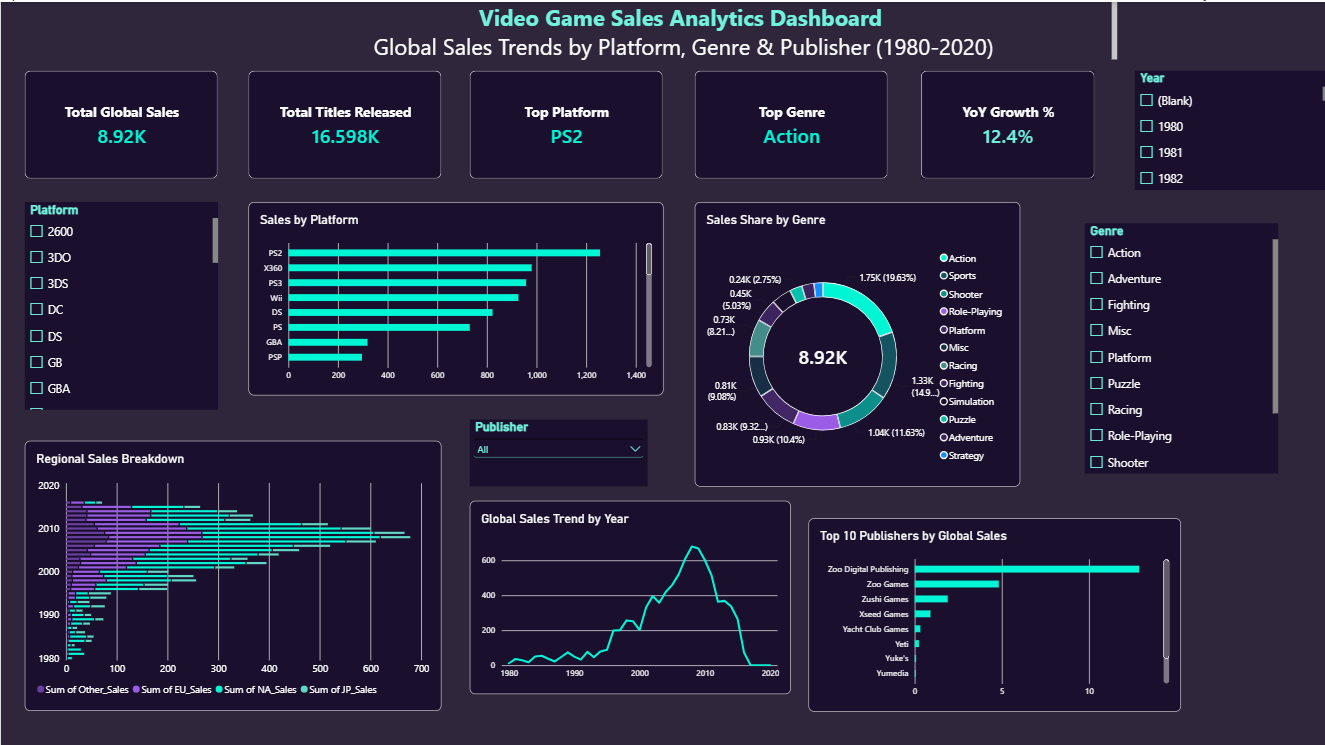

What the dashboard file says about the page in this screenshot:
{"tool":"powerbi","page":{"name":"Page 1","canvas":[1920,1080],"ordinal":0},"visuals":[{"type":"cardVisual","fields":{"Data":["Sum(vgsales.Global_Sales)"]},"box":[35,98.8,279.9,156.4],"z":0},{"type":"cardVisual","fields":{"Data":["vgsales.Top Platform"]},"box":[679.2,98.8,279.9,156.4],"z":1000},{"type":"cardVisual","fields":{"Data":["CountNonNull(vgsales.Name)"]},"box":[358.1,98.8,279.9,156.4],"z":2000},{"type":"cardVisual","fields":{"Data":["vgsales.Top Genre"]},"box":[1004.5,98.8,279.9,156.4],"z":4000},{"type":"lineChart","title":" Global Sales Trend by Year","fields":{"Category":["vgsales.Year"],"Y":["Sum(vgsales.Global_Sales)"]},"box":[679.2,722.5,465.2,279.9],"z":5000},{"type":"clusteredBarChart","title":"Sales by Platform","fields":{"Category":["vgsales.Platform"],"Y":["Sum(vgsales.Global_Sales)"]},"box":[358.1,290.2,601,279.9],"z":6000},{"type":"donutChart","title":"Sales Share by Genre","fields":{"Category":["vgsales.Genre"],"Y":["Sum(vgsales.Global_Sales)"]},"box":[1004.5,290.2,471.4,411.7],"z":7000},{"type":"barChart","title":"Top 10 Publishers by Global Sales","fields":{"Category":["vgsales.Publisher"],"Y":["Sum(vgsales.Global_Sales)"]},"box":[1169.1,747.2,539.3,279.9],"z":8000},{"type":"barChart","title":" Regional Sales Breakdown","fields":{"Category":["vgsales.Year"],"Y":["Sum(vgsales.Other_Sales)","Sum(vgsales.EU_Sales)","Sum(vgsales.NA_Sales)","Sum(vgsales.JP_Sales)"]},"box":[35,636,603.1,391.1],"z":9000},{"type":"slicer","fields":{"Values":["vgsales.Publisher"]},"box":[679.2,605.1,257.3,96.7],"z":10000},{"type":"slicer","fields":{"Values":["vgsales.Genre"]},"box":[1568.4,321.1,279.9,362.3],"z":11000},{"type":"slicer","fields":{"Values":["vgsales.Platform"]},"box":[35,290.2,279.9,300.5],"z":12000},{"type":"slicer","fields":{"Values":["vgsales.Year"]},"box":[1640.5,98.8,279.9,172.9],"z":13000},{"type":"textbox","box":[358.1,0,1257.6,84.4],"z":13001},{"type":"cardVisual","fields":{"Data":["vgsales.YoY Growth %"]},"box":[1331.7,98.8,251.1,156.4],"z":13002}]}

Visuals, with their boxes in screenshot pixels (x1, y1, x2, y2), scaled from the page's 1920x1080 canvas onto the 1325x745 screenshot:
cardVisual - Sum(vgsales.Global_Sales): [24, 68, 217, 176]
cardVisual - vgsales.Top Platform: [469, 68, 662, 176]
cardVisual - CountNonNull(vgsales.Name): [247, 68, 440, 176]
cardVisual - vgsales.Top Genre: [693, 68, 886, 176]
" Global Sales Trend by Year" lineChart: [469, 498, 790, 691]
"Sales by Platform" clusteredBarChart: [247, 200, 662, 393]
"Sales Share by Genre" donutChart: [693, 200, 1019, 484]
"Top 10 Publishers by Global Sales" barChart: [807, 515, 1179, 709]
" Regional Sales Breakdown" barChart: [24, 439, 440, 709]
slicer - vgsales.Publisher: [469, 417, 646, 484]
slicer - vgsales.Genre: [1082, 221, 1276, 471]
slicer - vgsales.Platform: [24, 200, 217, 407]
slicer - vgsales.Year: [1132, 68, 1324, 187]
textbox: [247, 0, 1115, 58]
cardVisual - vgsales.YoY Growth %: [919, 68, 1092, 176]
